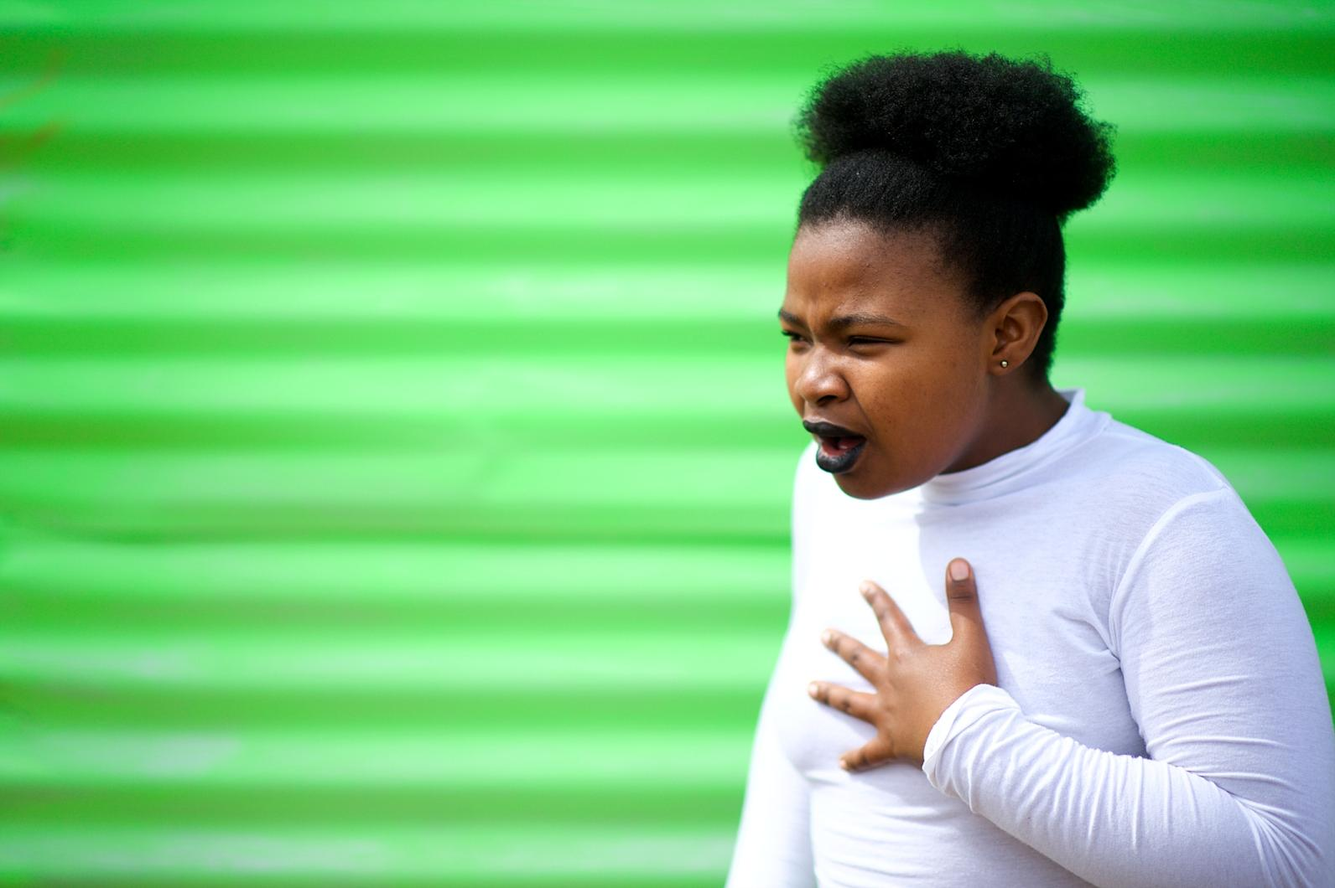pain: (770, 298, 912, 367)
